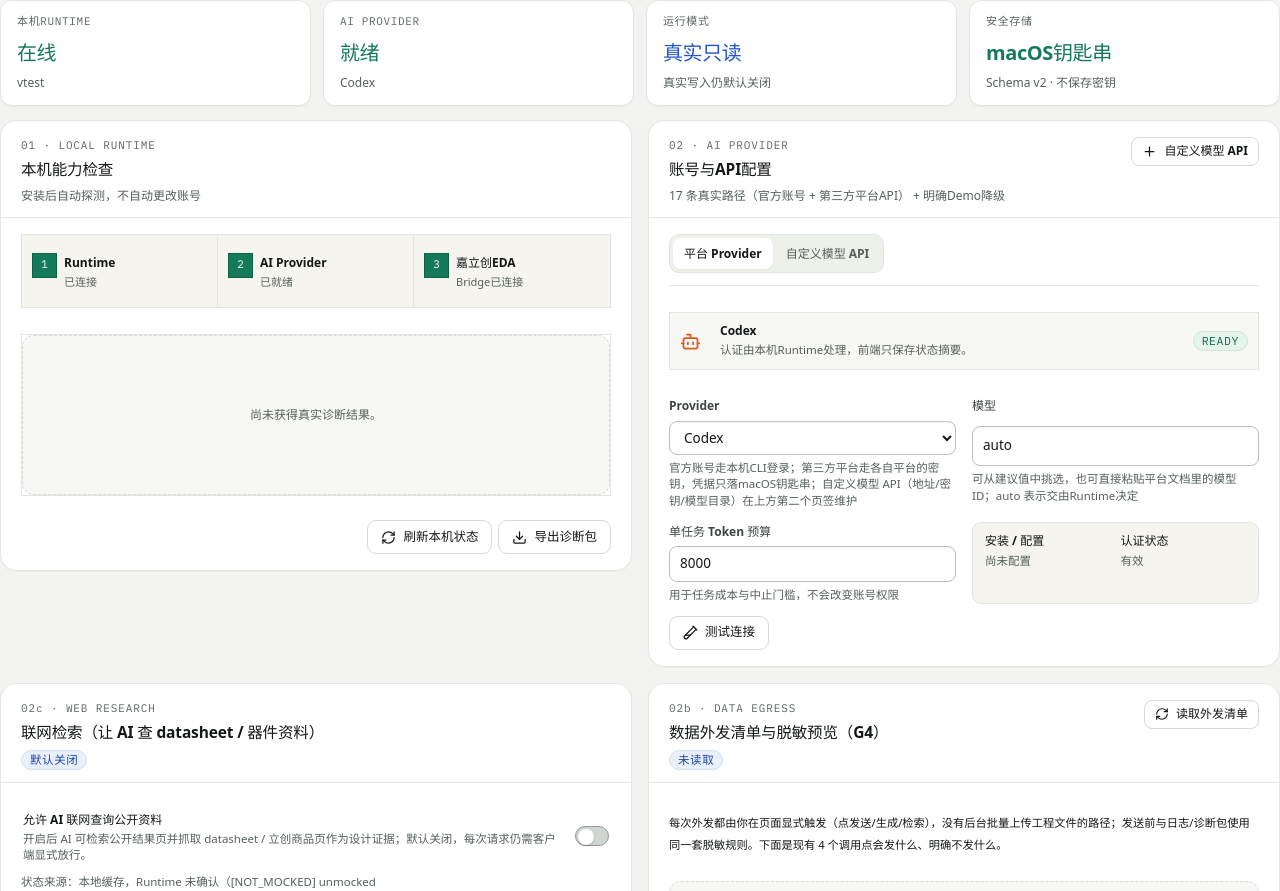
Scenario: F5 页面级交互（真实点击） › SettingsPage：点「读取外发清单」渲染接口契约（含 chat.turn 与 notSent）
Click the button "读取外发清单" at (1202, 714), box x1=1144 y1=700 x2=1259 y2=729
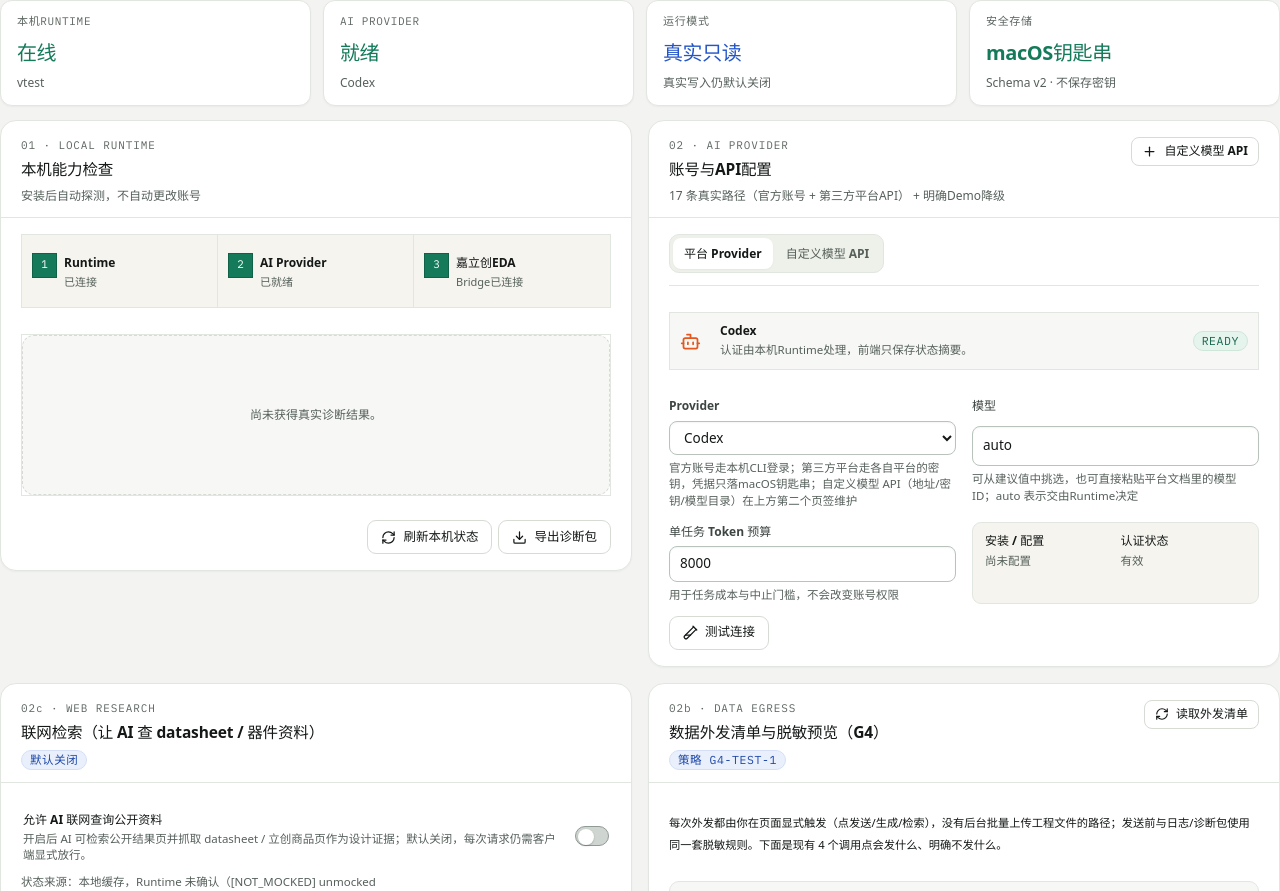
Expected: the text "策略 g4-test-1" is shown, x1=669 y1=750 x2=786 y2=770
